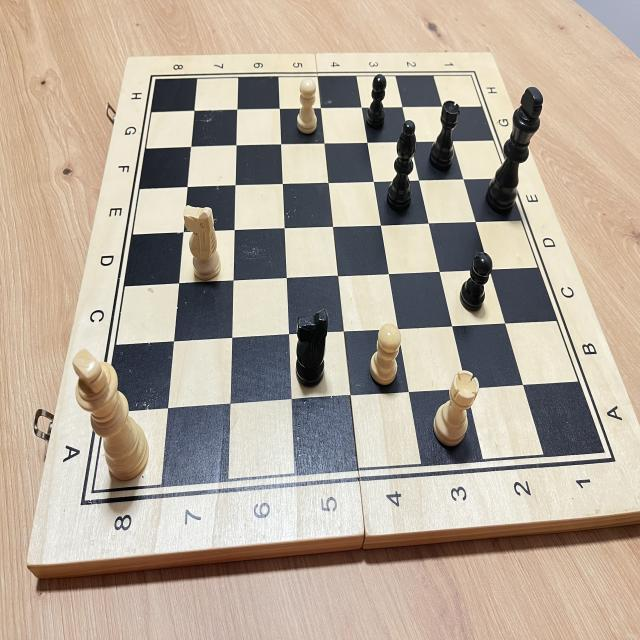black-bishop: (381, 110, 420, 222)
black-king: (481, 76, 546, 221)
black-knight: (286, 302, 332, 390)
black-pawn: (456, 246, 496, 319), (360, 71, 390, 138)
black-rook: (424, 96, 462, 175)
white-king: (63, 335, 158, 484)
white-knight: (180, 192, 224, 280)
white-pawn: (366, 320, 409, 399), (293, 72, 323, 140)
white-rook: (426, 362, 485, 453)
